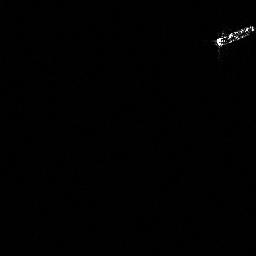ship: (216, 25, 255, 48)
